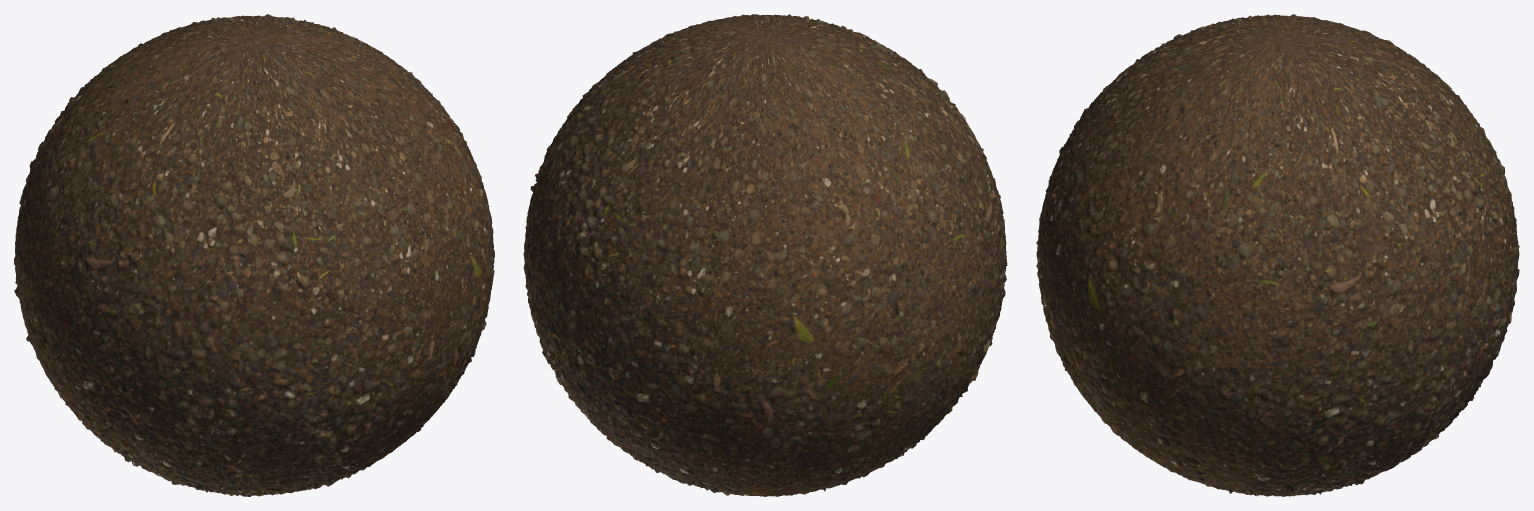
The model's file is gravel_4k.gltf.
3 views of the same model, side by side, from view 1: azimuth 30°, elevation 25°; view 2: azimuth 150°, elevation 25°; view 3: azimuth 270°, elevation 25° (orthographic).
Visible parts, largest first — view 1: sphere_gltf; view 2: sphere_gltf; view 3: sphere_gltf.
Part boxes in pixels (bbox=[...]): sphere_gltf: bbox=[14, 14, 494, 496]; sphere_gltf: bbox=[523, 14, 1007, 496]; sphere_gltf: bbox=[1036, 14, 1519, 496].
Size of the model in its own units: 2.01 by 2.02 by 2.02.
Materials: 1 (1 with a texture image).
